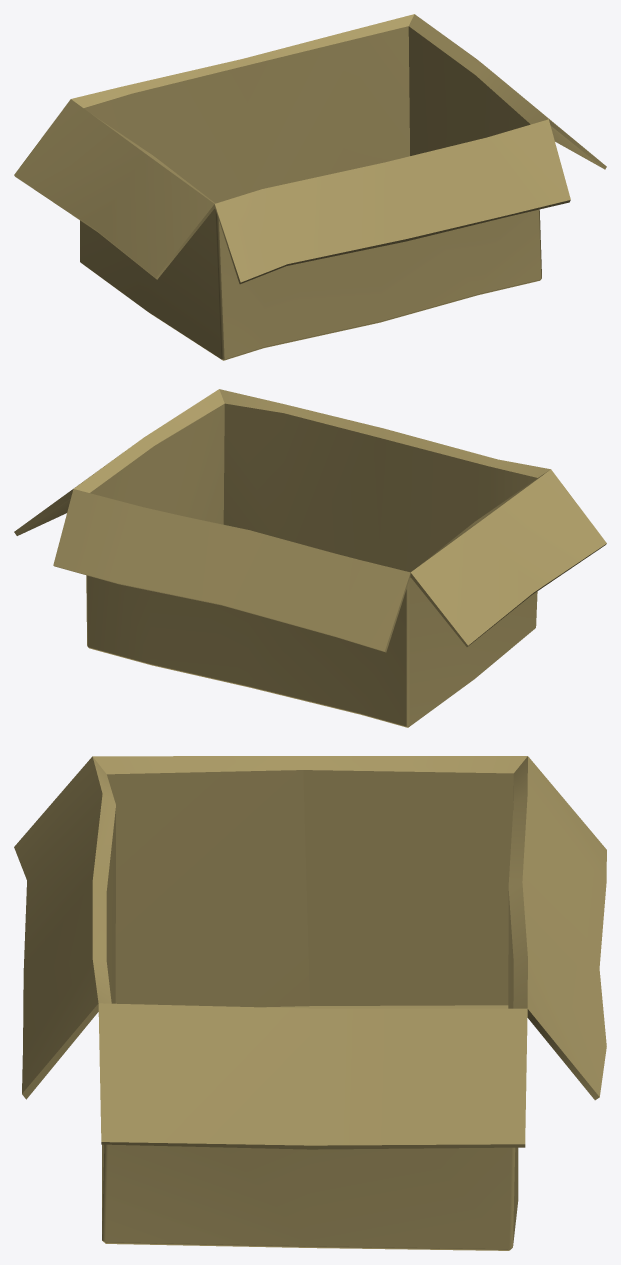
3 renders of one model, top to bottom at view 1: azimuth 30°, elevation 25°; view 2: azimuth 150°, elevation 25°; view 3: azimuth 270°, elevation 25°, orthographic. The views are drawn at different scales.
Visible parts, largest first — view 1: cardboard_box_c; view 2: cardboard_box_c; view 3: cardboard_box_c.
Part boxes in pixels (x1=…): cardboard_box_c: x1=14, y1=14, x2=606, y2=360; cardboard_box_c: x1=14, y1=389, x2=606, y2=727; cardboard_box_c: x1=14, y1=756, x2=606, y2=1250.
Bounding box in the file's own units: 99.64 × 33.86 × 72.87.
